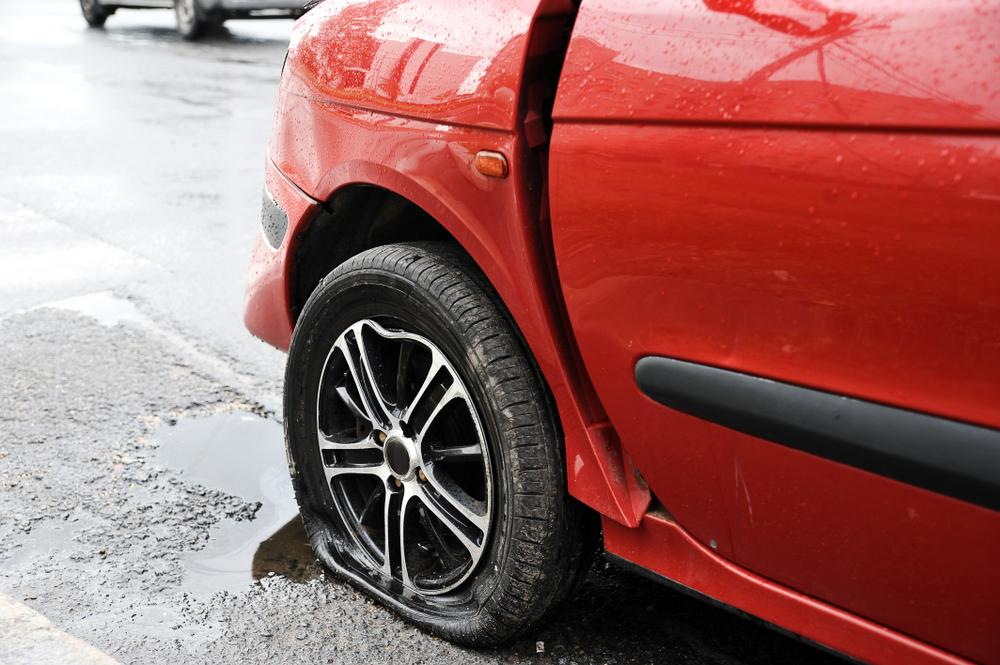tire flat: (285, 240, 596, 648)
